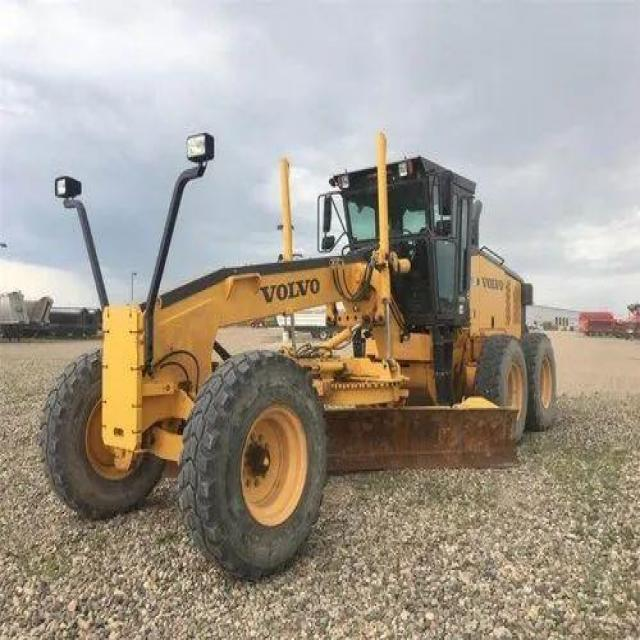Grader: (18, 118, 591, 580)
